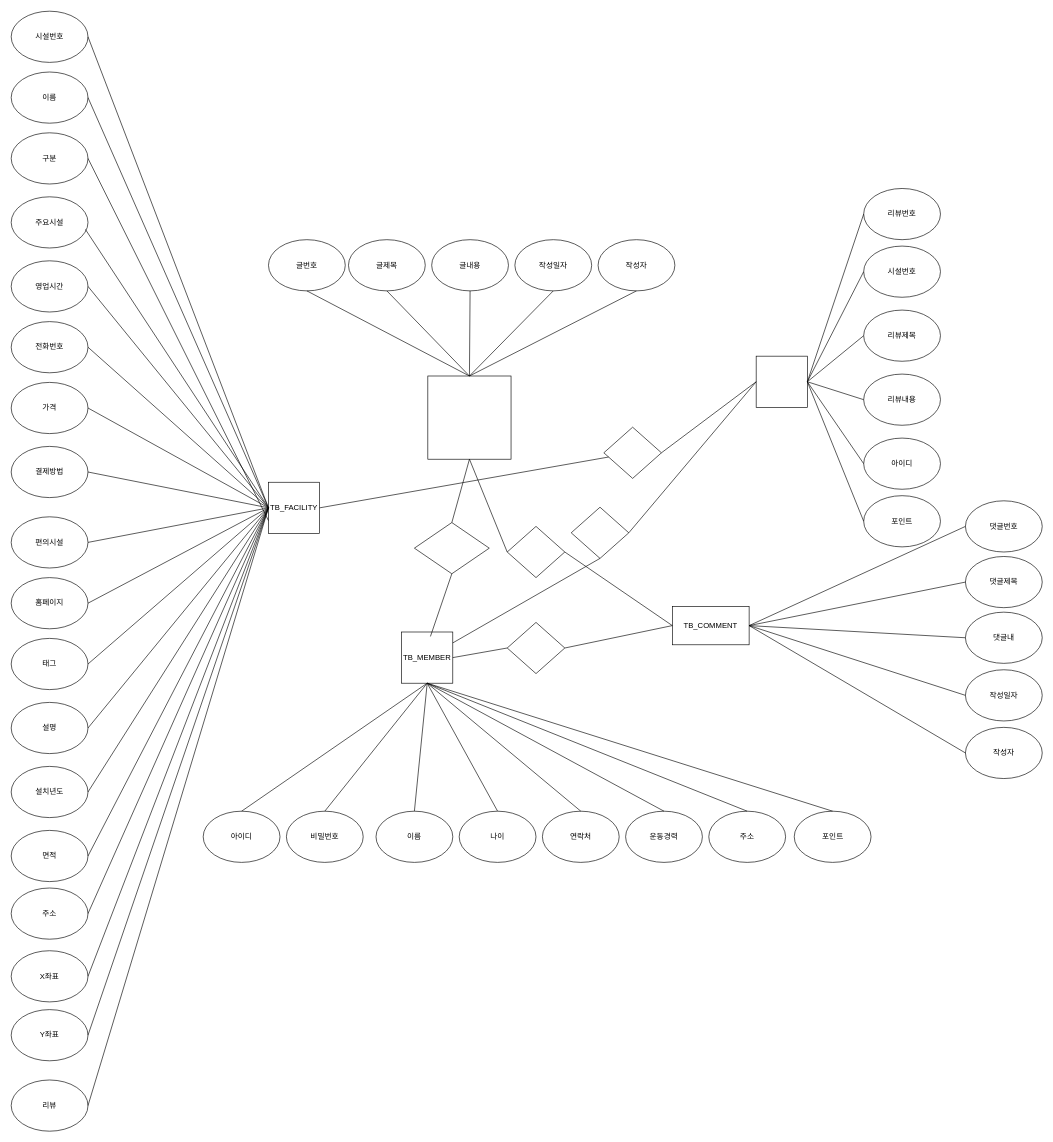
The diagram is 1053 pixels wide and 1142 high, and some of its shapes have lost their labels. The centre of each missing label's shape, as x and y in pixels:
"TB_COMMUNITY" belongs at point (469, 417).
"TB_REVIEW" belongs at point (781, 381).
"게시글에 댓글추가" belongs at point (536, 552).
"글에 회원정보 표시" belongs at point (451, 548).
"시설마다 리뷰 추가" belongs at point (632, 452).
"회원 정보 댓글에 표시" belongs at point (536, 648).
"회원 정보 리뷰에 표시" belongs at point (600, 532).
